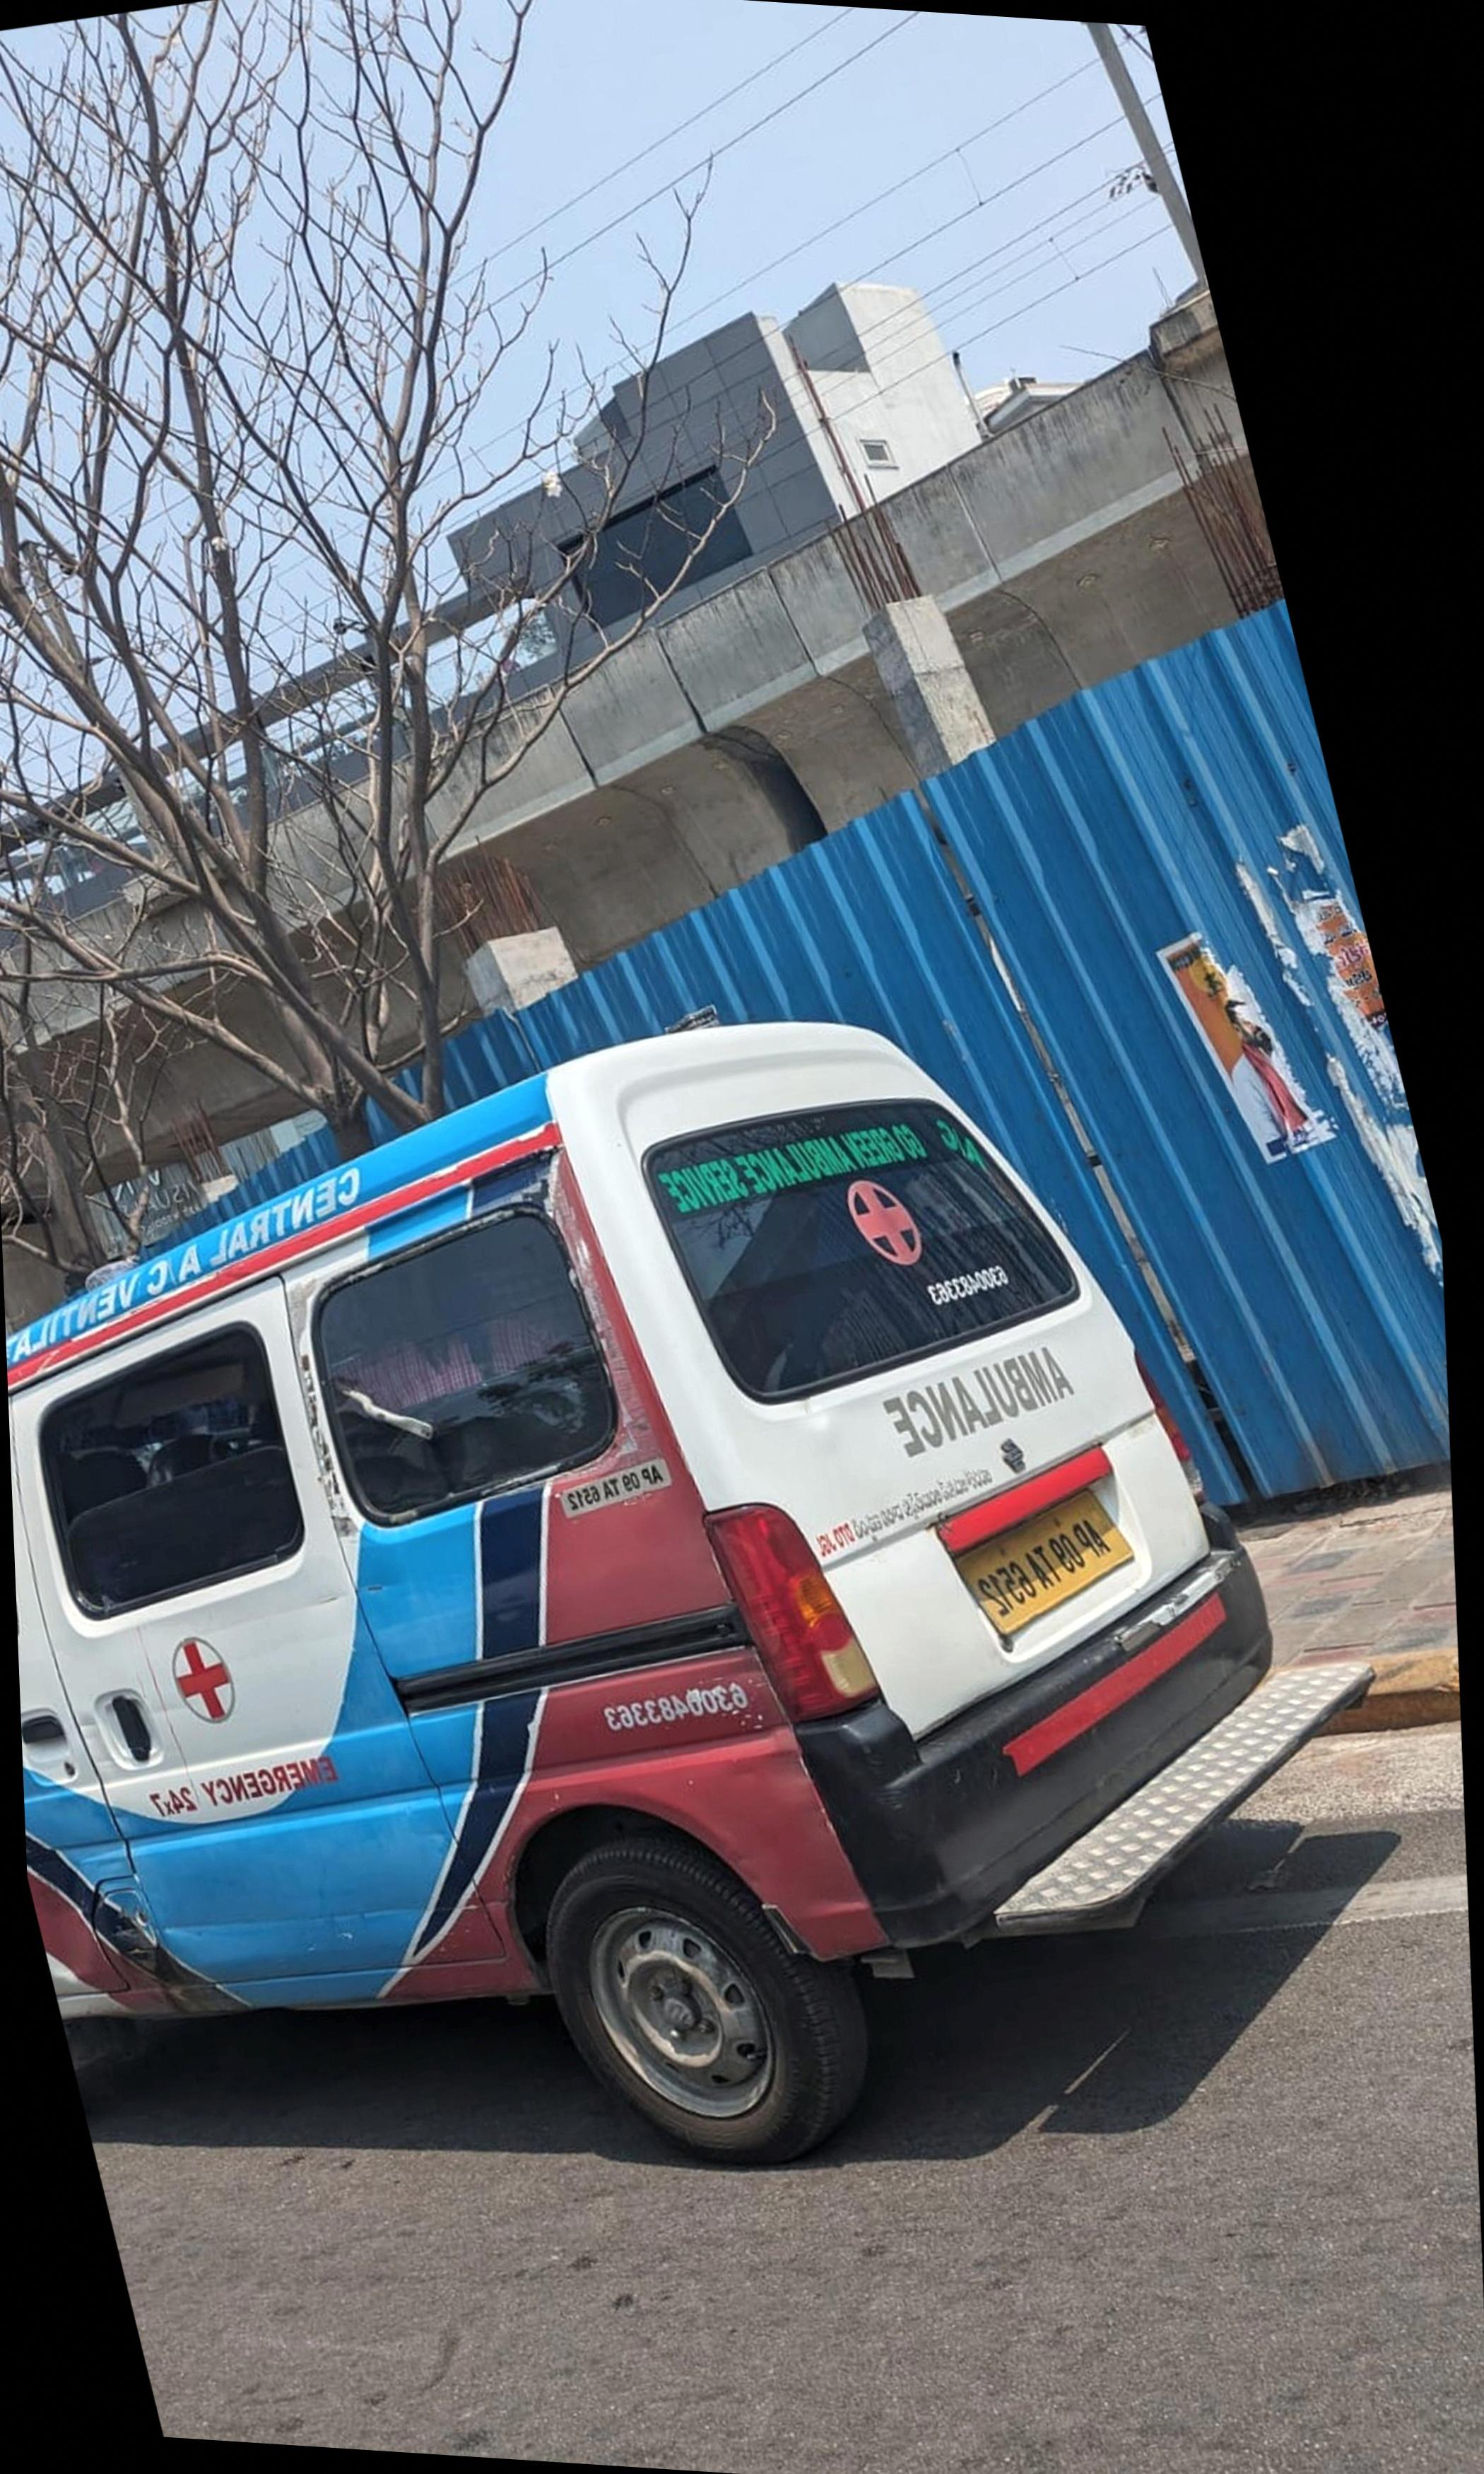ambulance: (14, 1020, 1376, 2154)
